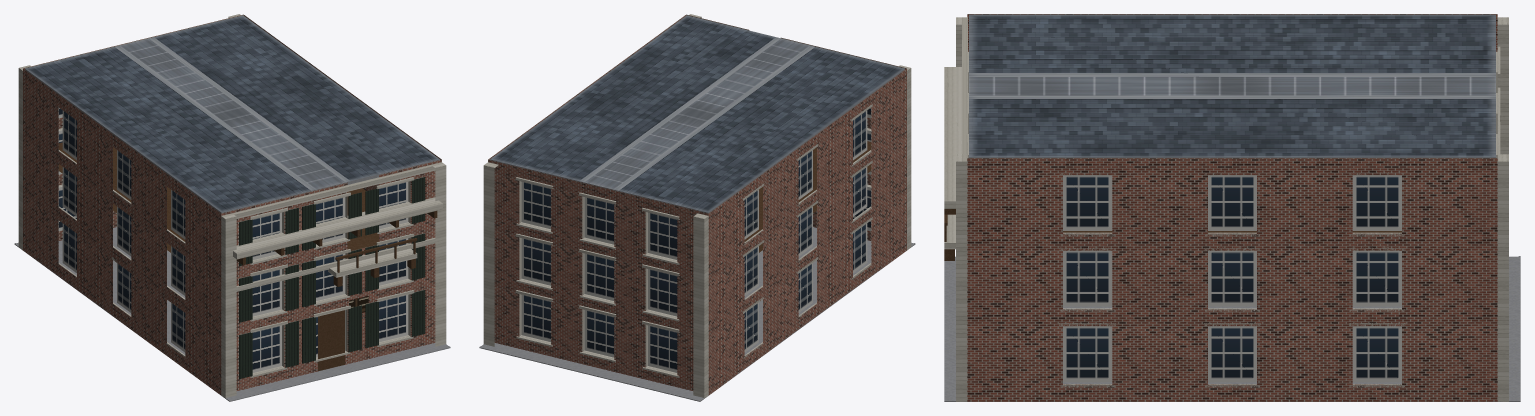
The model's file is bldg-merchant.glb.
The picture shows the model from 3 angles, left to right: view 1: azimuth 30°, elevation 25°; view 2: azimuth 150°, elevation 25°; view 3: azimuth 270°, elevation 25°; orthographic projection. The views are drawn at different scales.
Visible parts, largest first — view 1: bldg-merchant; view 2: bldg-merchant; view 3: bldg-merchant.
Part boxes in pixels (<box>): bldg-merchant: <box>14,14,450,401</box>; bldg-merchant: <box>479,14,915,401</box>; bldg-merchant: <box>944,14,1520,401</box>.
Bounding box in the file's own units: 9 × 7.1 × 15.2.
Materials: 8 (8 with a texture image).
